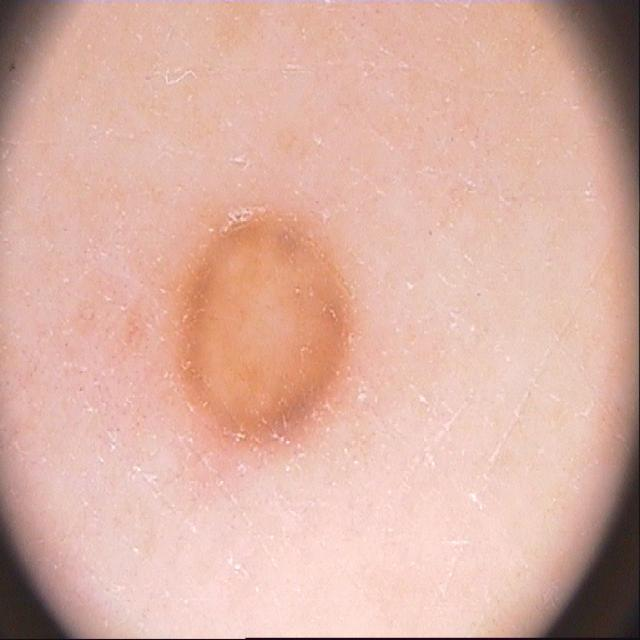Skin-Cancer Nevus: (101, 20, 544, 629)
